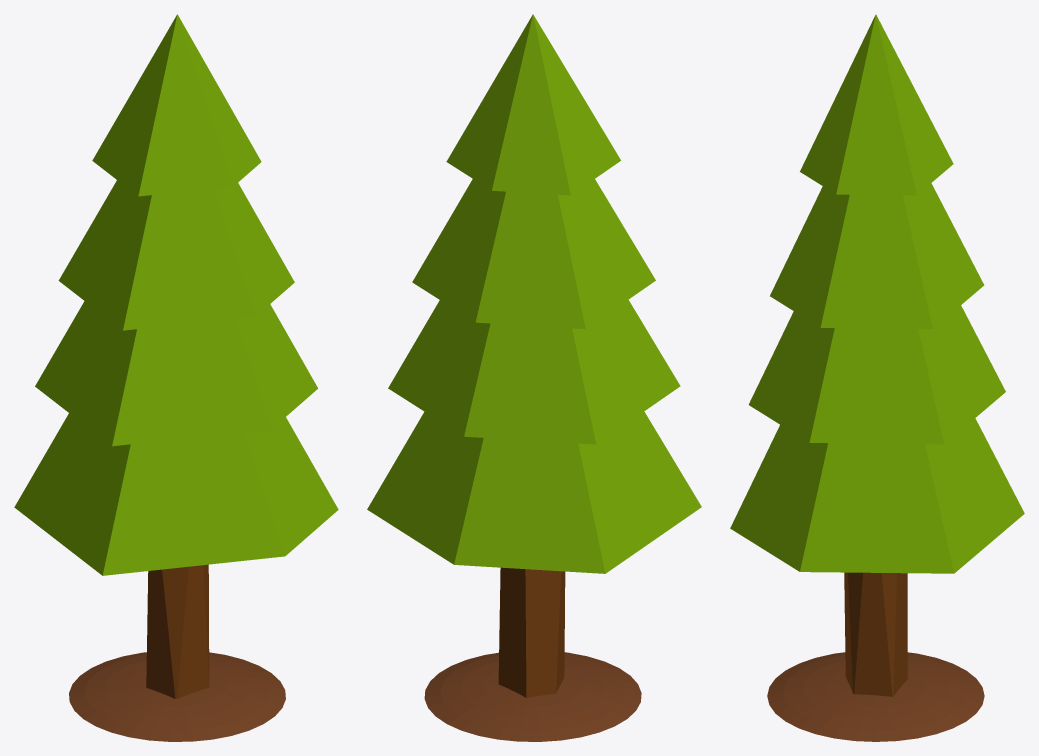
The model's file is arbol.fbx.
3 views of the same model, side by side, from view 1: azimuth 30°, elevation 25°; view 2: azimuth 150°, elevation 25°; view 3: azimuth 270°, elevation 25° (orthographic).
Visible parts, largest first — view 1: Cone.003, Cone.002, Cone.001, Cone, Sphere, Cylinder; view 2: Cone.003, Cone.002, Cone.001, Cone, Sphere, Cylinder; view 3: Cone.003, Cone.002, Cone.001, Cone, Sphere, Cylinder.
Boxes of the visible parts, x1,y1,x2,y2 form: Cone.003: (14,413,338,575); Cone.002: (35,301,317,446); Cone.001: (58,180,294,330); Cone: (92,14,261,196); Sphere: (69,652,285,741); Cylinder: (146,564,209,698); Cone.003: (367,411,701,573); Cone.002: (388,300,680,444); Cone.001: (412,179,655,329); Cone: (446,14,620,195); Sphere: (424,652,641,741); Cylinder: (498,567,565,697); Cone.003: (730,418,1024,573); Cone.002: (748,305,1005,444); Cone.001: (770,183,984,328); Cone: (800,14,953,195); Sphere: (767,652,984,741); Cylinder: (844,572,907,696).
Bounding box in the file's own units: 299 × 784 × 307.
